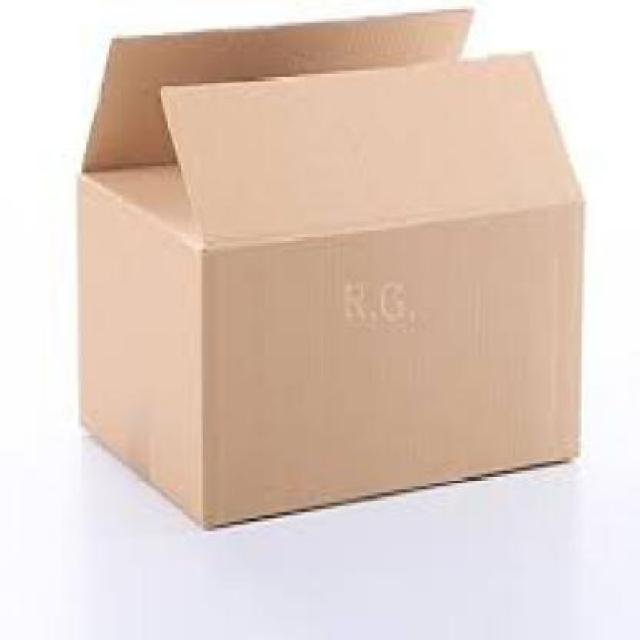box: (72, 3, 580, 528)
